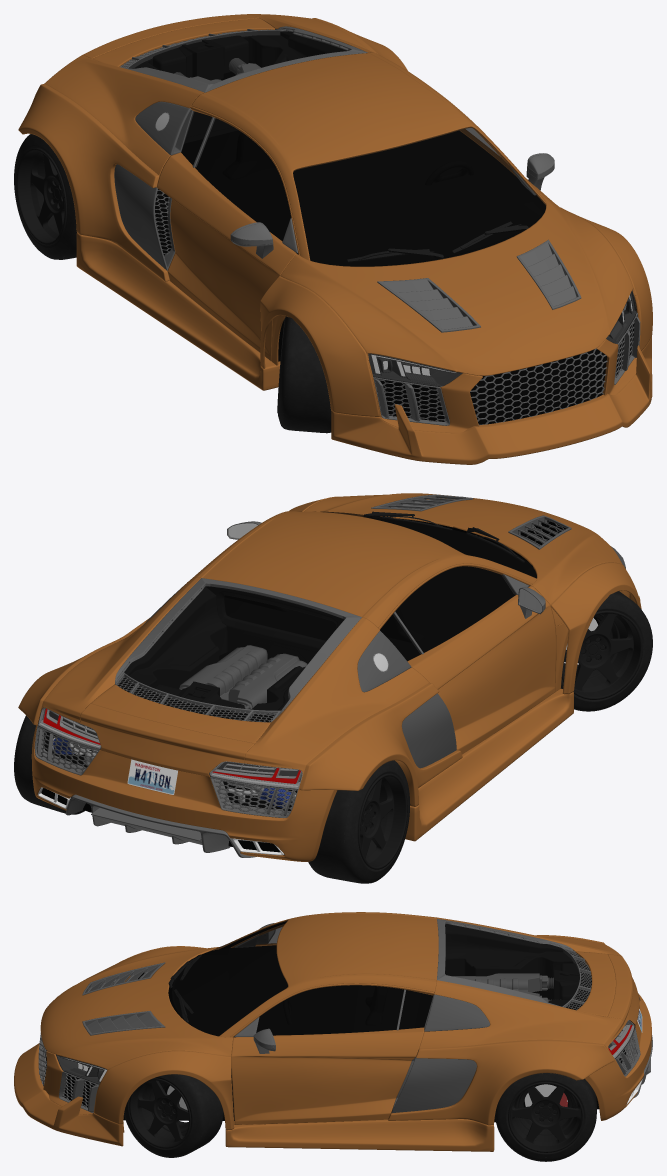
File: audi-r8.glb
3 views of the same model, one above another, from view 1: azimuth 30°, elevation 25°; view 2: azimuth 150°, elevation 25°; view 3: azimuth 270°, elevation 25° (orthographic). The views are drawn at different scales.
Visible parts, largest first — view 1: custom hood, Plane.010, Doors.014, Doors.009, Doors, Front Bumper.005, Doors.016, Hood.003, Doors.018, Doors.001, Plane.007, Plane (+25 smaller); view 2: Doors.009, Plane, Doors.001, Doors, Doors.011, Plane.010, Doors.015, custom hood, Doors.016, Doors.018, Plane.007, Doors.005 (+31 smaller); view 3: Doors, Plane.010, Doors.009, custom hood, Doors.016, Doors.001, Doors.014, Doors.018, Plane.007, Plane, Hood.003, Doors.015 (+25 smaller).
Part boxes in pixels (left/top/right/bottom): custom hood: left=280, top=195, right=635, bottom=375; Plane.010: left=181, top=130, right=545, bottom=266; Doors.014: left=293, top=126, right=545, bottom=265; Doors.009: left=191, top=52, right=545, bottom=260; Doors: left=157, top=129, right=552, bottom=360; Front Bumper.005: left=331, top=336, right=652, bottom=464; Doors.016: left=18, top=18, right=407, bottom=281; Hood.003: left=260, top=207, right=652, bottom=416; Doors.018: left=76, top=232, right=280, bottom=390; Doors.001: left=44, top=14, right=372, bottom=187; Plane.007: left=181, top=111, right=513, bottom=241; Plane: left=129, top=30, right=346, bottom=83; Doors.009: left=190, top=511, right=536, bottom=627; Plane: left=124, top=586, right=343, bottom=710; Doors.001: left=36, top=577, right=428, bottom=789; Doors: left=407, top=586, right=556, bottom=754; Doors.011: left=31, top=726, right=337, bottom=861; Plane.010: left=224, top=517, right=536, bottom=660; Doors.015: left=124, top=586, right=343, bottom=710; custom hood: left=304, top=493, right=622, bottom=626; Doors.016: left=18, top=618, right=462, bottom=806; Doors.018: left=405, top=688, right=573, bottom=841; Plane.007: left=380, top=566, right=515, bottom=660; Doors.005: left=79, top=703, right=254, bottom=776; Doors: left=231, top=943, right=424, bottom=1124; Plane.010: left=168, top=945, right=432, bottom=1037; Doors.009: left=218, top=912, right=438, bottom=1037; custom hood: left=40, top=946, right=233, bottom=1070; Doors.016: left=388, top=935, right=614, bottom=1125; Doors.001: left=419, top=917, right=624, bottom=1052; Doors.014: left=174, top=920, right=287, bottom=1036; Doors.018: left=225, top=1119, right=494, bottom=1151; Plane.007: left=256, top=925, right=432, bottom=1035; Plane: left=445, top=923, right=579, bottom=1006; Hood.003: left=93, top=946, right=234, bottom=1130; Doors.015: left=445, top=924, right=573, bottom=1006.
Bounding box in the file's own units: 32.61 × 17.5 × 62.56.
14 materials, 4 textured.
